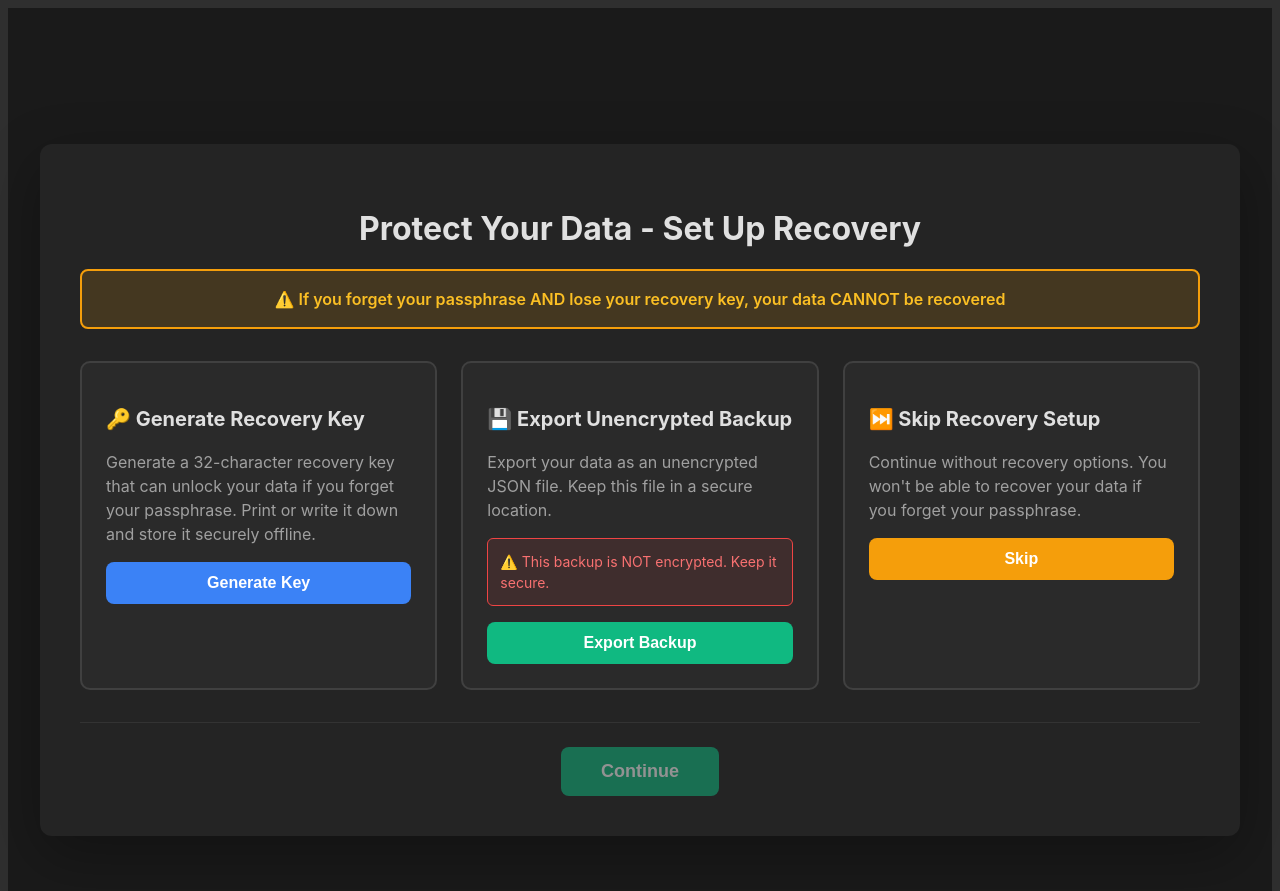
RecoveryOptions › generates recovery key on button click (AC2)
The width and height of the screenshot is (1280, 891).
Click the button "Generate Key". click: (259, 583)
box: 106,562 -> 411,604
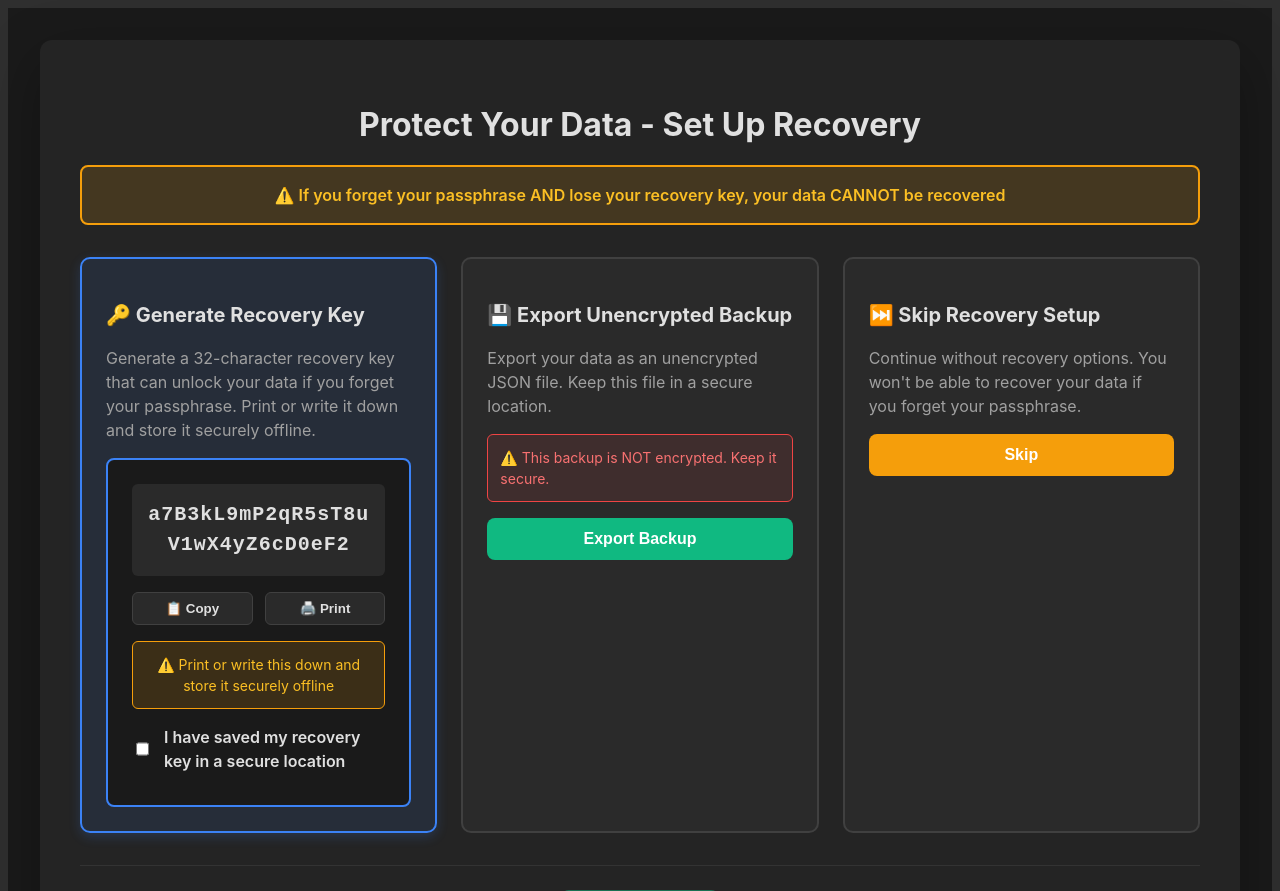
Now the text "a7B3kL9mP2qR5sT8uV1wX4yZ6cD0eF2" is shown, box 132,484 -> 385,576
